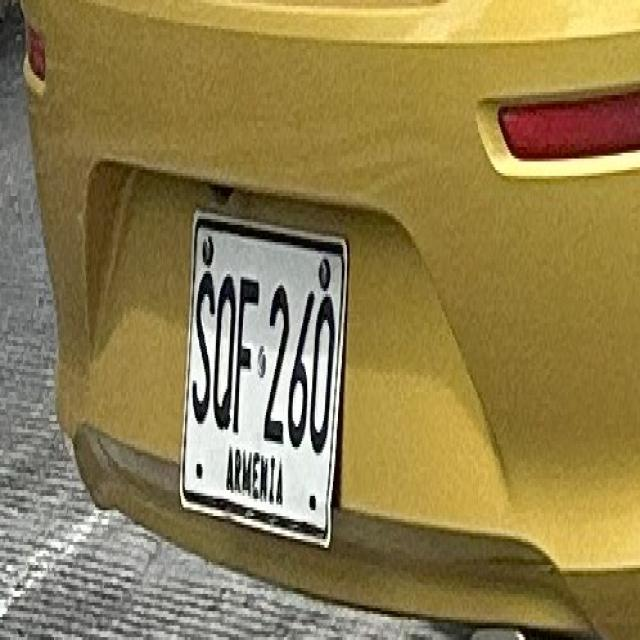number plate: (179, 208, 344, 542)
